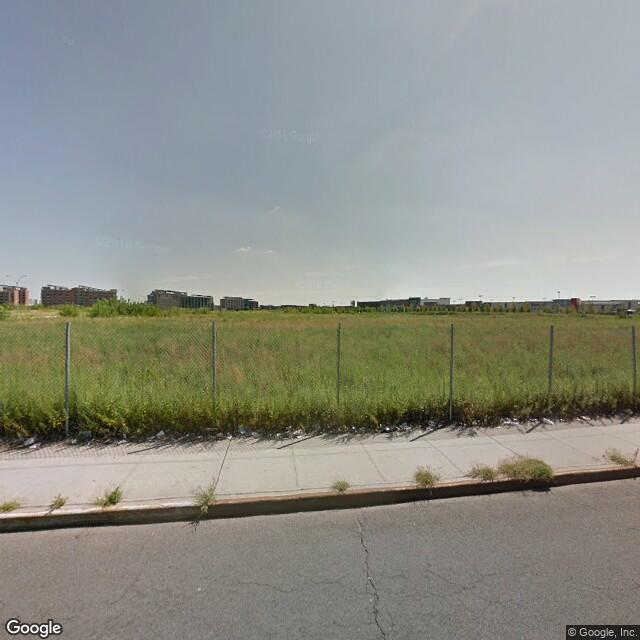litter: (212, 424, 265, 443), (500, 411, 557, 427), (17, 430, 44, 449), (147, 426, 171, 442), (109, 433, 132, 448), (286, 427, 308, 439)
